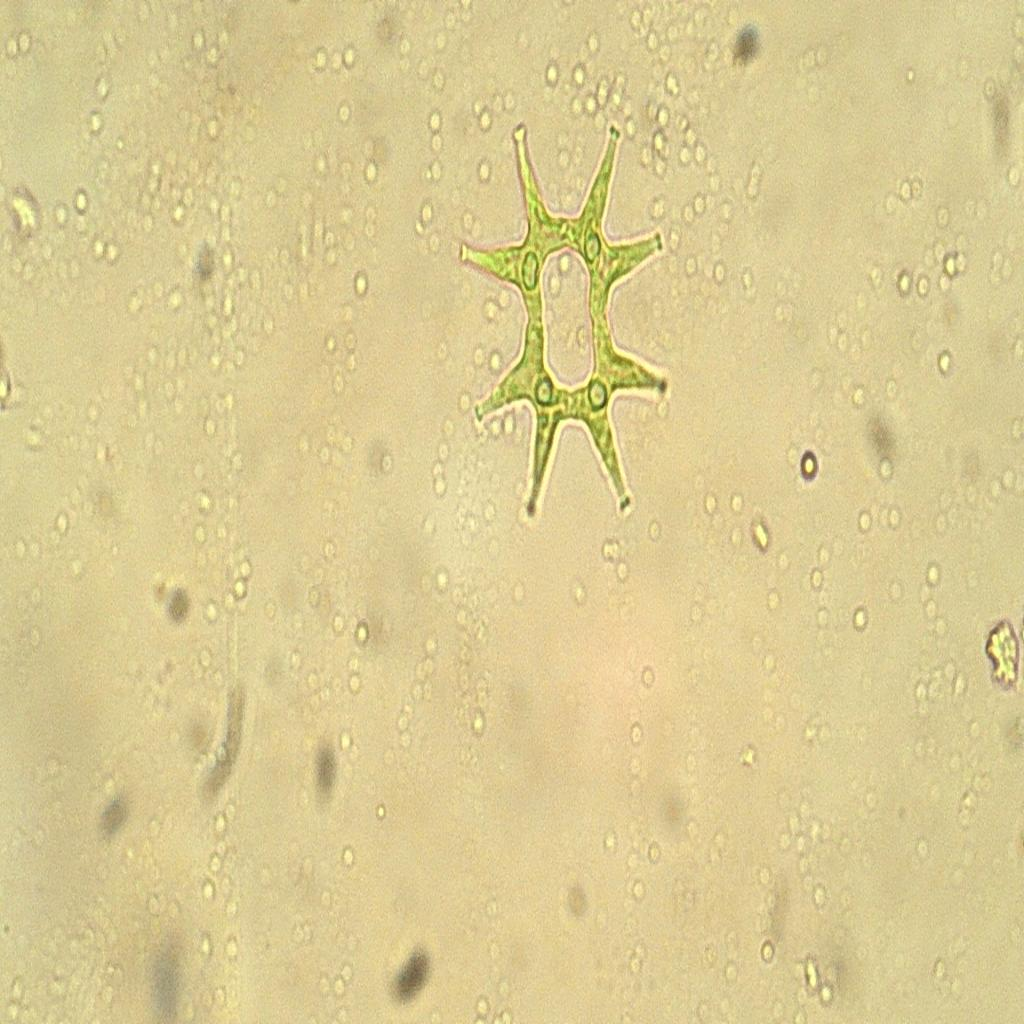Pediastrum_75O: (450, 105, 678, 560)
